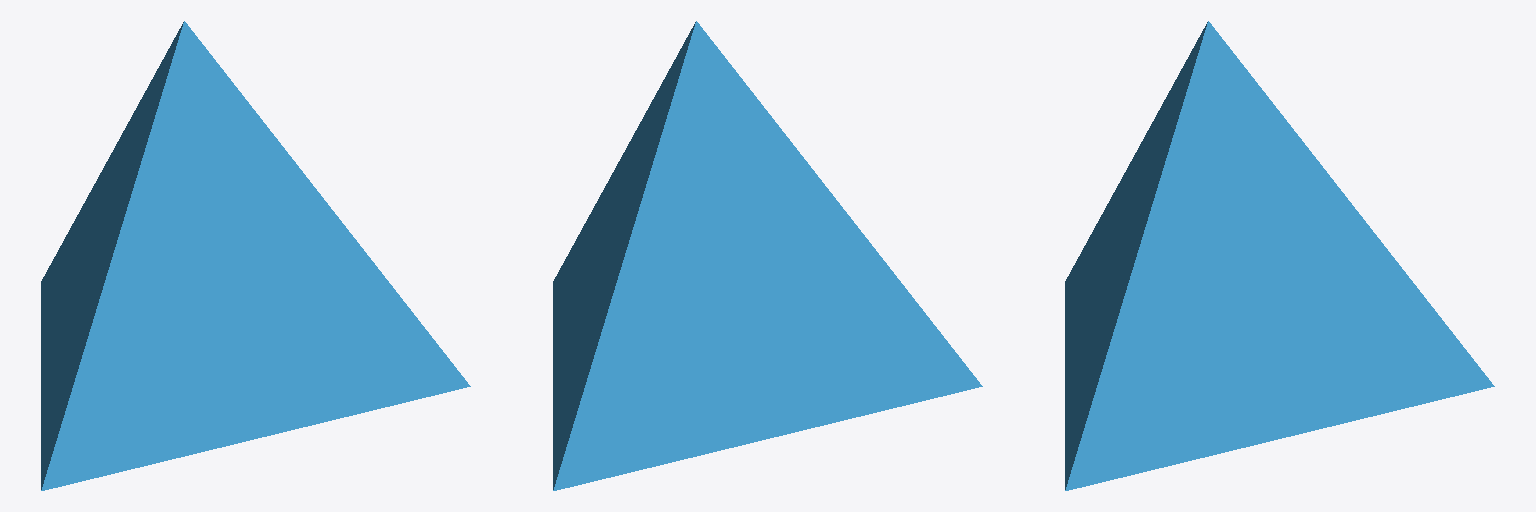
URDF robot description (tetrahedron_scene):
<robot name="tetrahedron_scene" version="1.0">
  <link name="world"/>
  <joint name="tetrahedron_joint" type="fixed">
    <origin rpy="0.0 0.0 0.0" xyz="0.0 0.0 0.0"/>
    <parent link="world"/>
    <child link="tetrahedron"/>
  </joint>
  <link name="tetrahedron">
    <collision name="tetrahedron_collision">
      <origin rpy="0.0 0.0 0.0" xyz="0.0 0.0 0.0"/>
      <geometry>
        <mesh filename="tetrahedron.obj"/>
      </geometry>
    </collision>
    <visual name="tetrahedron_visual">
      <origin rpy="0.0 0.0 0.0" xyz="0.0 0.0 0.0"/>
      <geometry>
        <mesh filename="tetrahedron.obj"/>
      </geometry>
    </visual>
  </link>
</robot>

--- Render facts (derived) ---
The picture shows the robot from 3 angles, left to right: view 1: azimuth 30°, elevation 25°; view 2: azimuth 150°, elevation 25°; view 3: azimuth 270°, elevation 25°; orthographic projection.
Model tetrahedron_scene with 2 links and 1 joints (1 fixed), rooted at world, posed every joint at zero.
Links seen in each view (by area): view 1: tetrahedron; view 2: tetrahedron; view 3: tetrahedron.
Boxes of the visible links, x1,y1,x2,y2 form: tetrahedron: [41, 21, 470, 490]; tetrahedron: [553, 21, 982, 490]; tetrahedron: [1065, 21, 1494, 490].
Size in the robot's own frame: 1.23 by 1.07 by 1 metres.
1 mesh visuals loaded from 1 distinct referenced files (1 OBJ).
